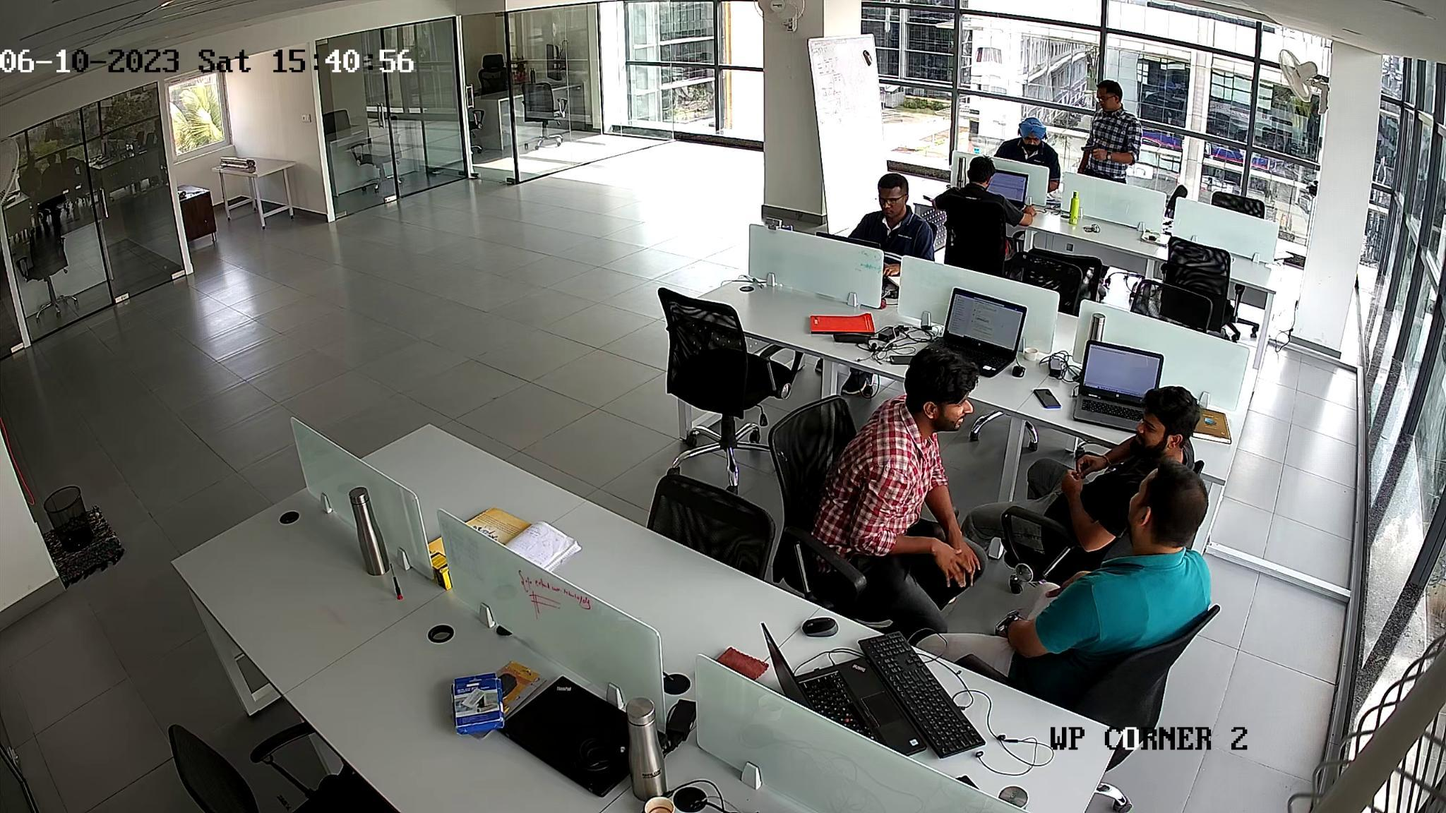gun: (1082, 143, 1108, 165)
